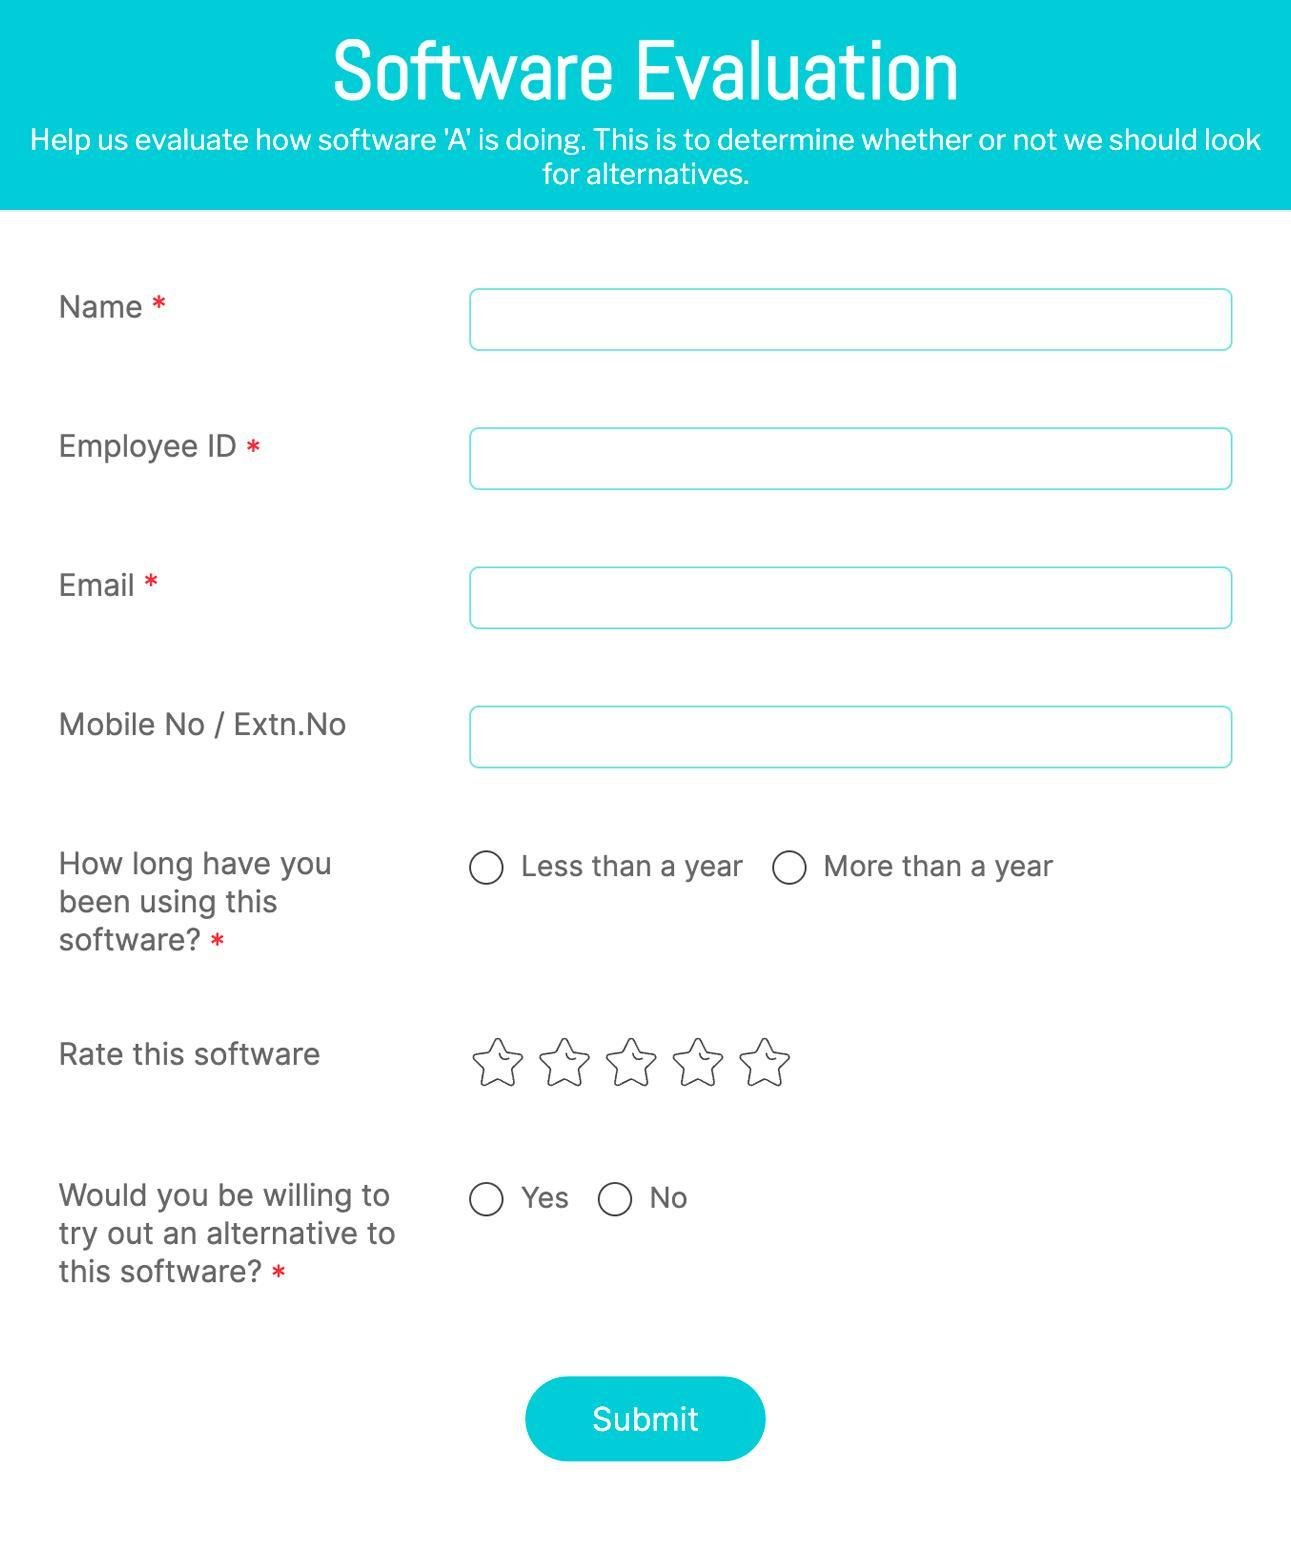button: (524, 1375, 773, 1459)
icon: (536, 1035, 597, 1088), (670, 1038, 728, 1092), (606, 1035, 661, 1091), (472, 1036, 530, 1089), (741, 1038, 792, 1089)
input: (473, 425, 1234, 491), (472, 706, 1234, 770), (472, 568, 1233, 630), (473, 291, 1236, 351)
label: (326, 26, 970, 115), (54, 1179, 399, 1302), (49, 840, 338, 958), (54, 1026, 332, 1082), (58, 712, 350, 748), (822, 846, 1063, 882), (518, 849, 749, 884), (54, 425, 240, 464), (55, 567, 139, 608), (55, 289, 147, 325), (521, 1174, 577, 1219), (642, 1181, 697, 1219)
radio: (463, 1176, 514, 1222), (594, 1181, 636, 1228), (772, 847, 813, 888), (466, 849, 509, 887)
